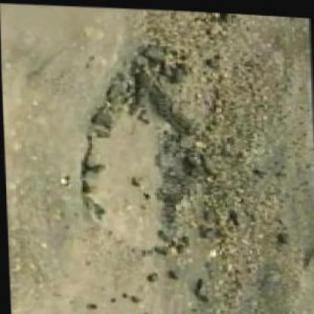Hueco: (74, 63, 206, 256)
